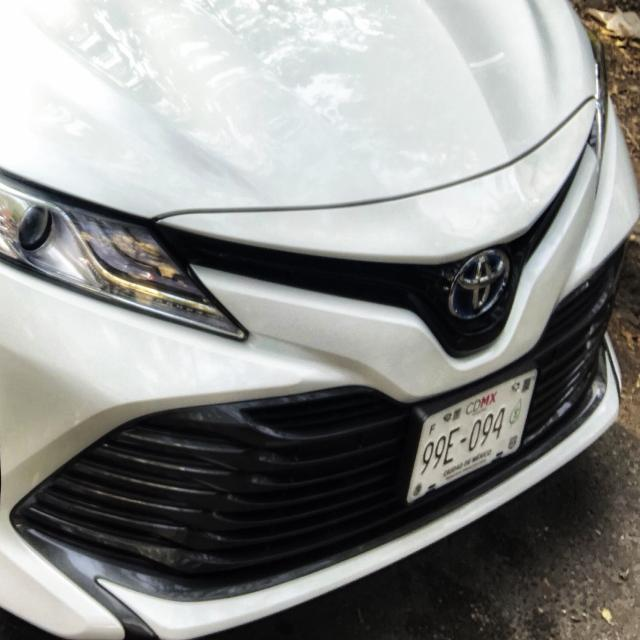placa: (413, 408, 542, 476)
